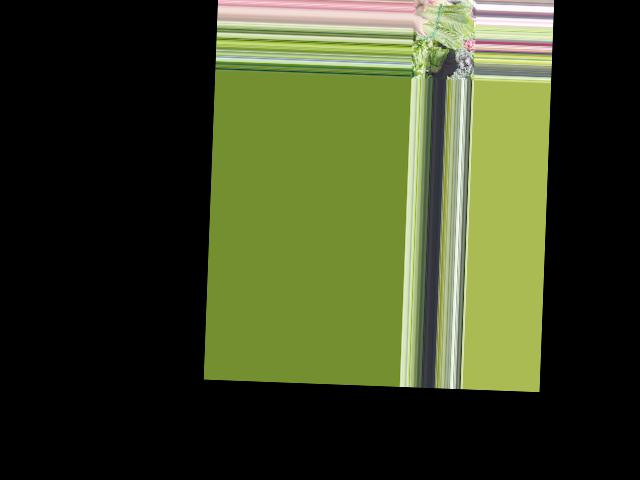lettuce: (411, 1, 472, 50)
